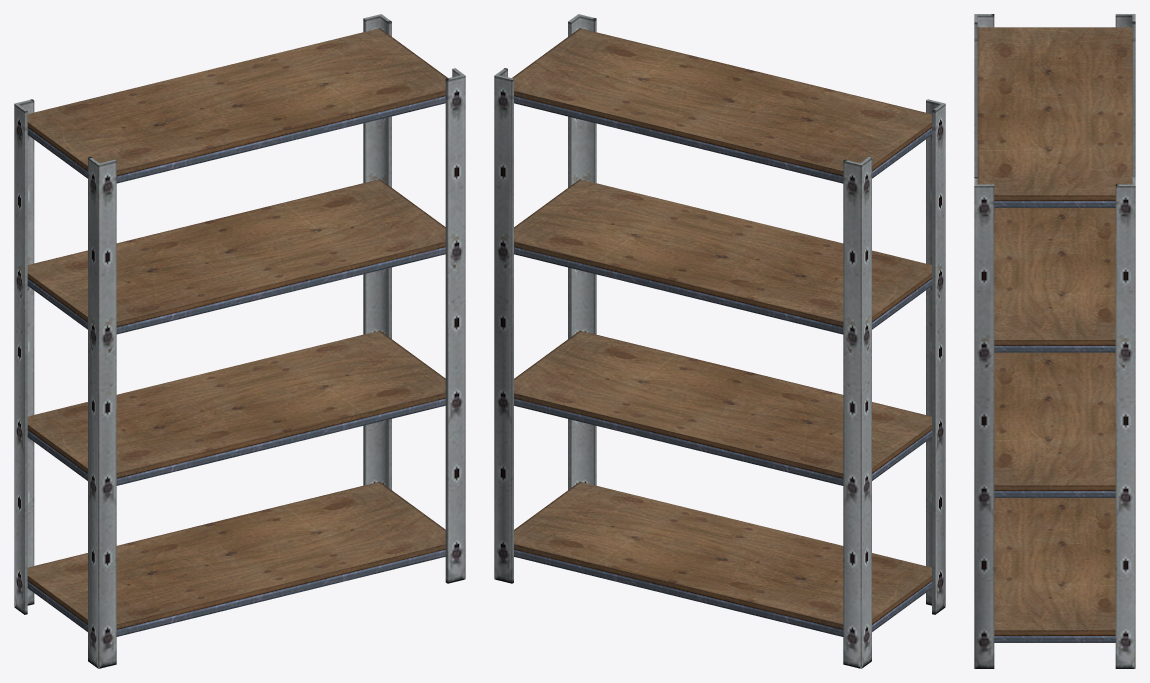
The model's file is storage_shelving.fbx.
The picture shows the model from 3 angles, left to right: view 1: azimuth 30°, elevation 25°; view 2: azimuth 150°, elevation 25°; view 3: azimuth 270°, elevation 25°; orthographic projection. The views are drawn at different scales.
Visible parts, largest first — view 1: U3DMesh; view 2: U3DMesh; view 3: U3DMesh.
Part boxes in pixels (bbox=[...]): U3DMesh: bbox=[14, 14, 465, 668]; U3DMesh: bbox=[494, 14, 945, 668]; U3DMesh: bbox=[974, 14, 1135, 668].
Bounding box in the file's own units: 44.18 × 57.9 × 17.56.
